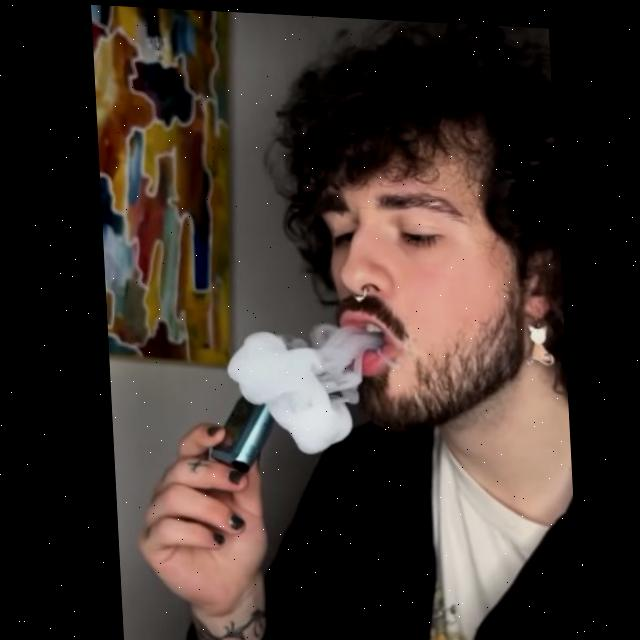vape: (205, 393, 272, 469)
